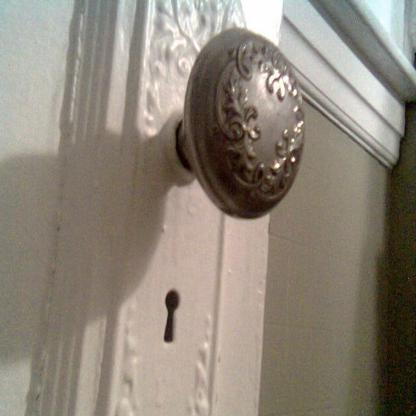door: (0, 0, 285, 416)
knob: (175, 23, 309, 223)
